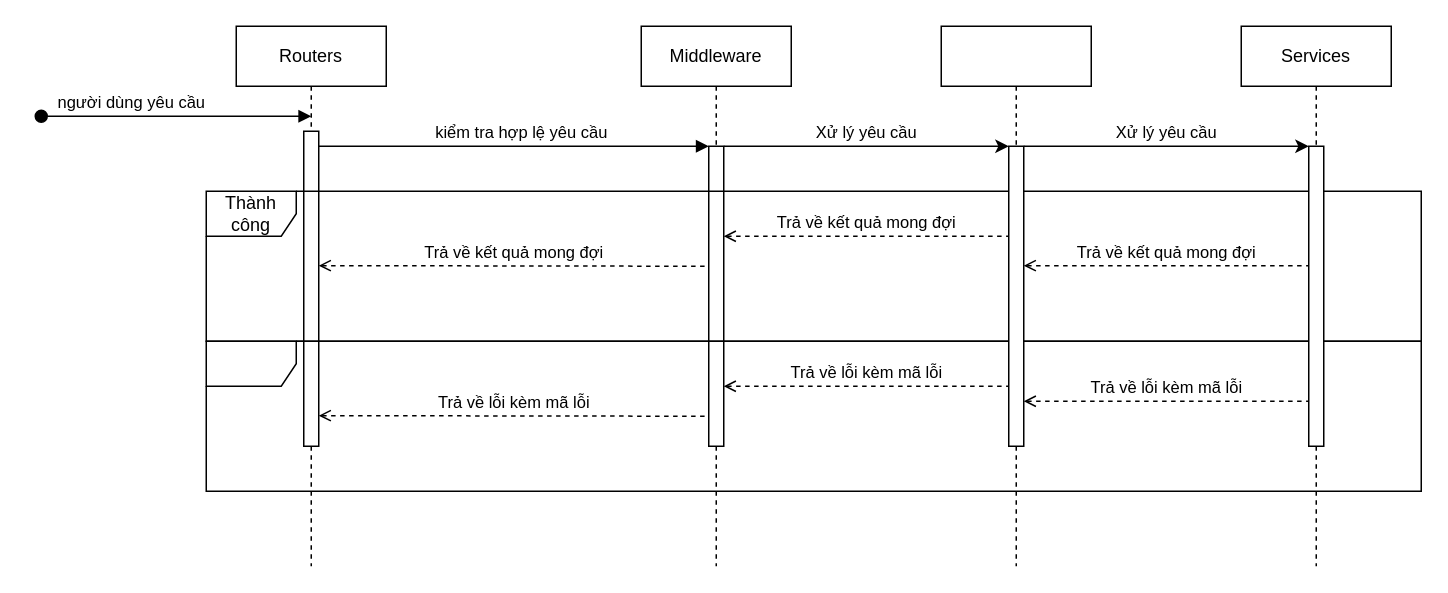
The diagram is 1448 pixels wide and 593 high, and some of its shapes have lost their labels. Each missing label, with the box of its shape:
Dependencies: (940, 25, 1091, 566)
Lỗi: (205, 340, 1421, 491)
